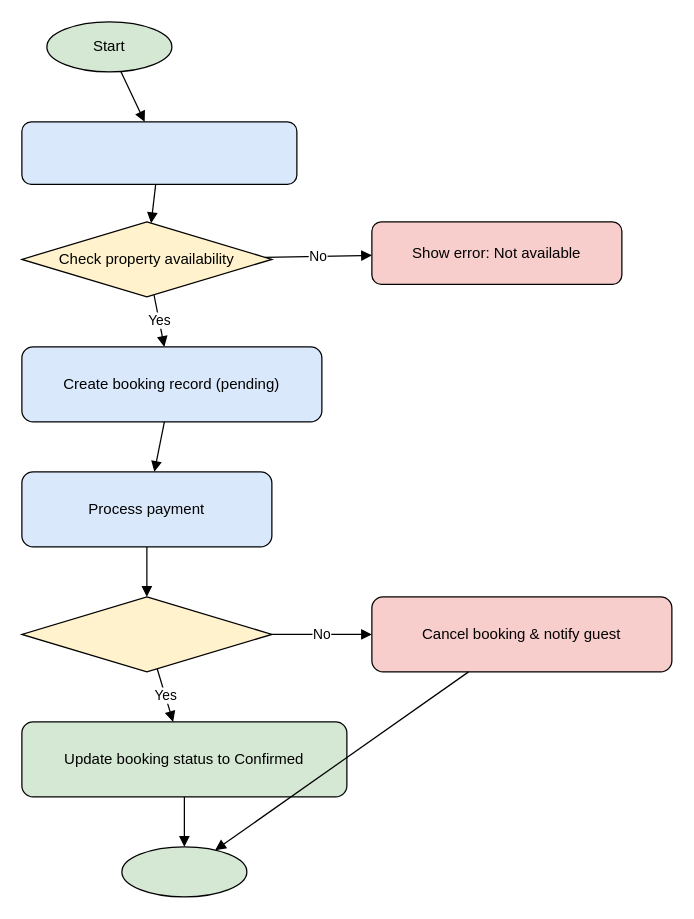
Image size: 694x919. Some labels were removed from this diagram. Here are the shapes that lost their labels. From the top down, the box of each, then its label:
(21, 121, 297, 184): Guest selects property & dates
(21, 596, 272, 672): Payment successful?
(121, 846, 247, 897): End
